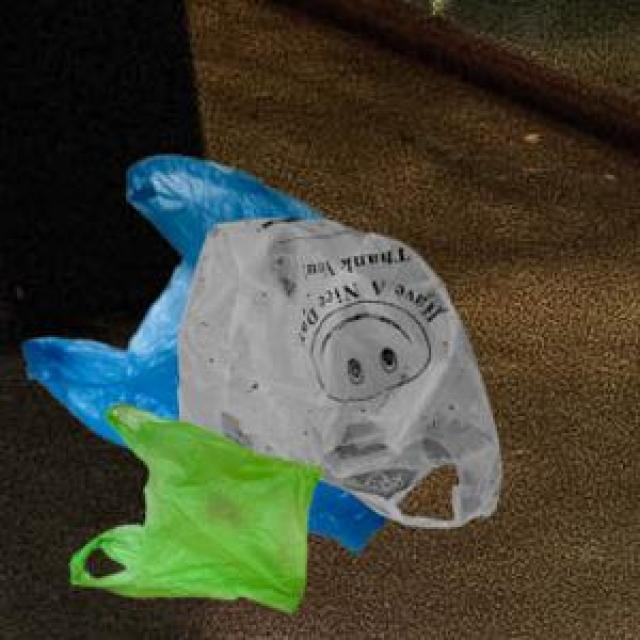waste: (24, 155, 501, 612)
